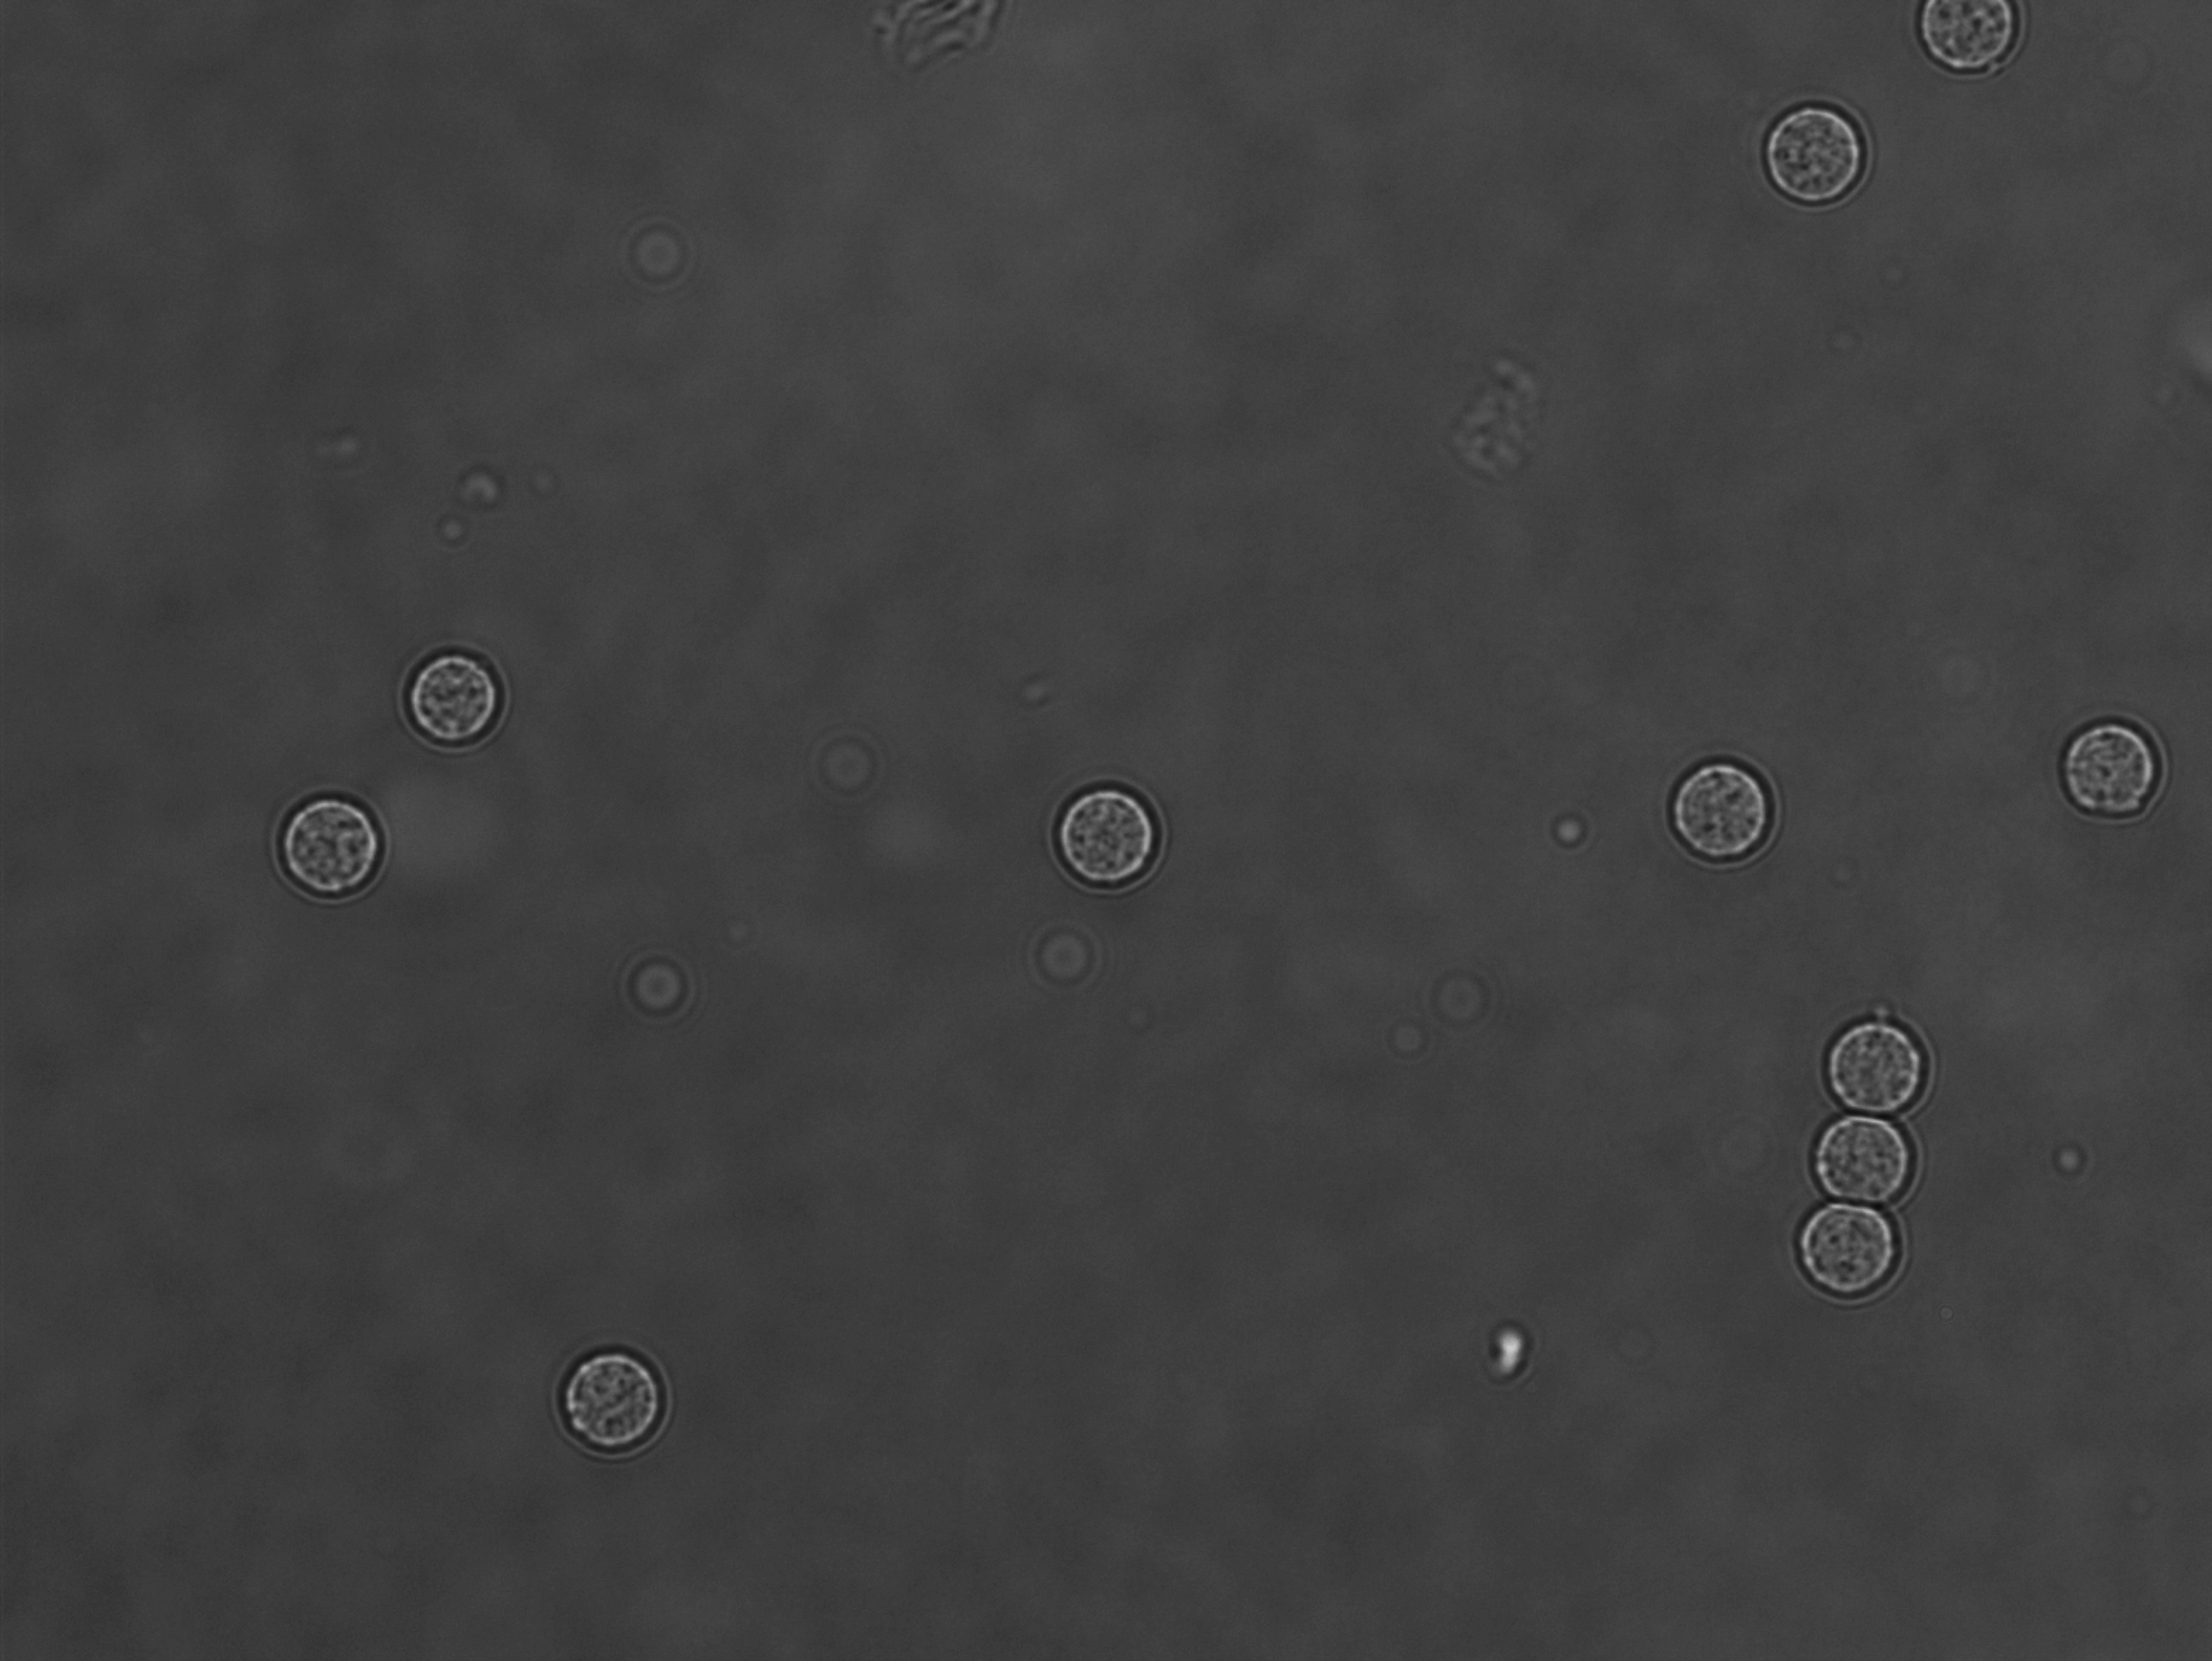depth:0: (1743, 1159, 1914, 1323), (1026, 771, 1204, 926), (1643, 738, 1802, 883), (1802, 1010, 1963, 1150), (543, 1317, 684, 1471), (269, 764, 413, 909), (1743, 89, 1893, 223), (2034, 698, 2165, 850), (377, 626, 523, 759), (1786, 1096, 1938, 1220)
